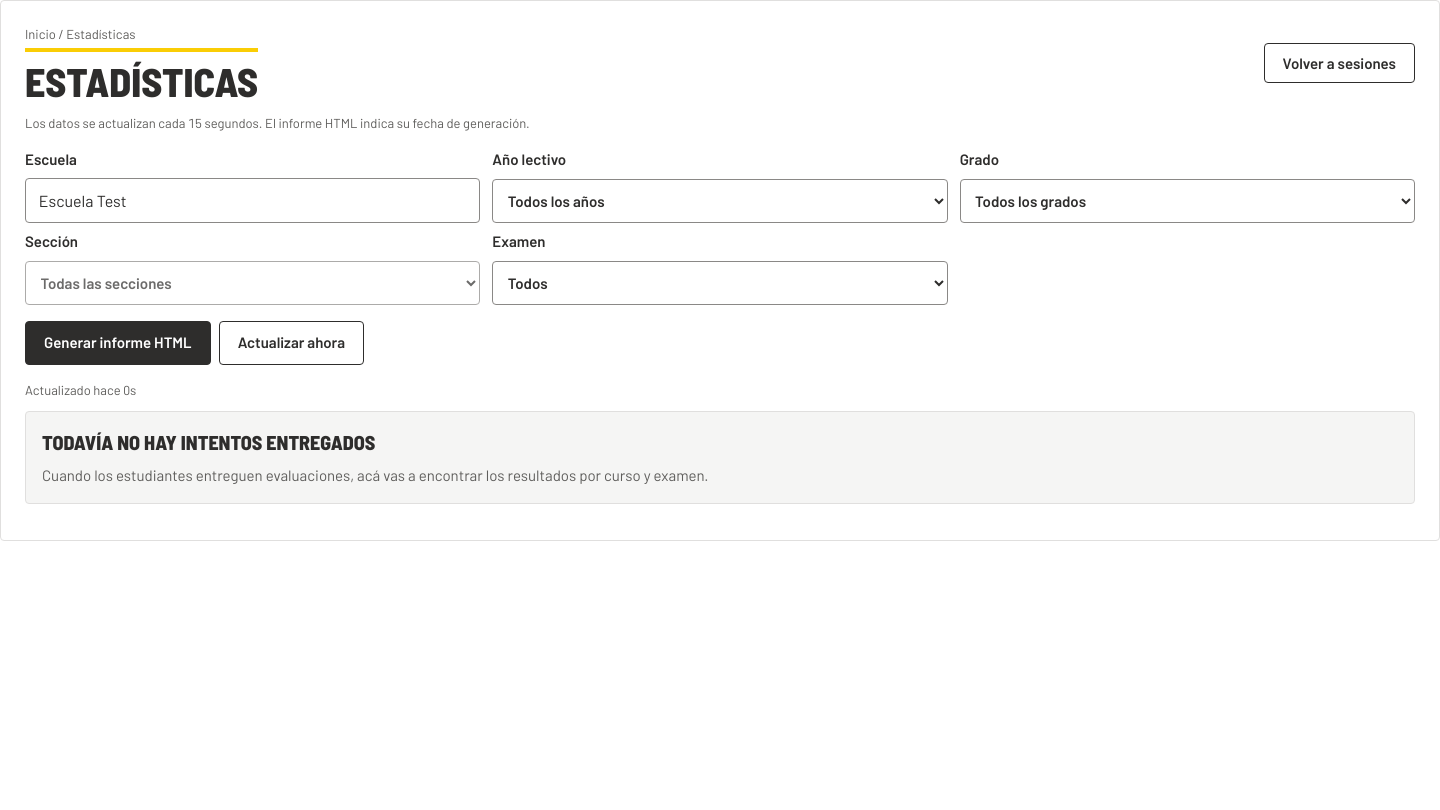
Test: StatsWorkspace › sends selected filters to the host and shows the report result
The image size is (1440, 810).
Click the button "Generar informe HTML" at (118, 343), box [25,321,211,365]
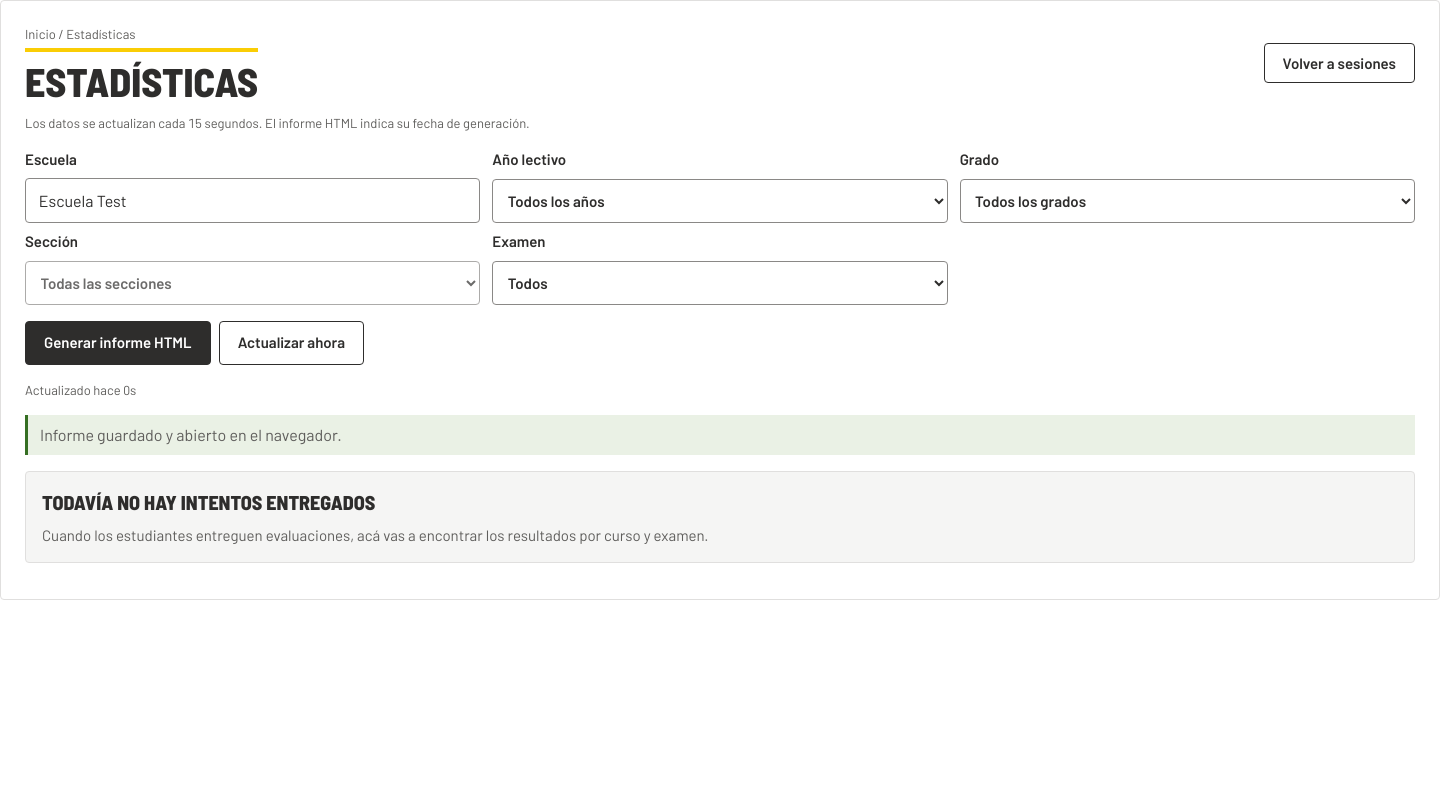
Expected: the text "Informe guardado y abierto en el navegador." is shown, [25,415,1415,455]
